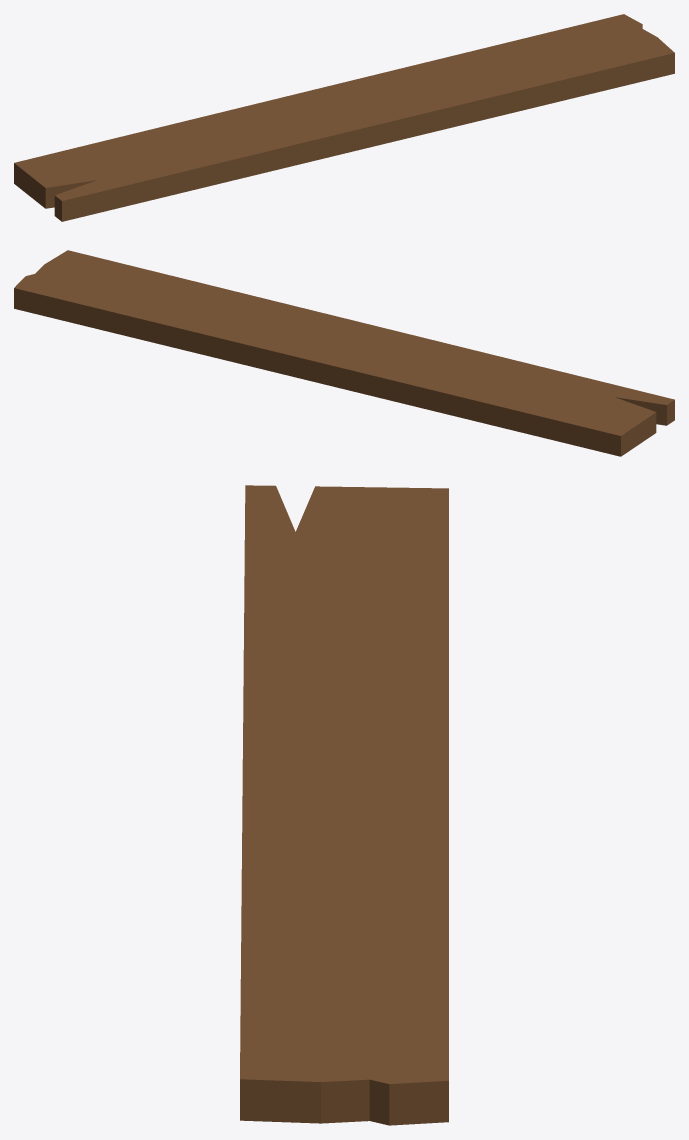
File: WoodPlank_03.glb
3 views of the same model, one above another, from view 1: azimuth 30°, elevation 25°; view 2: azimuth 150°, elevation 25°; view 3: azimuth 270°, elevation 25° (orthographic). The views are drawn at different scales.
Visible parts, largest first — view 1: WoodPlank_03; view 2: WoodPlank_03; view 3: WoodPlank_03.
Boxes of the visible parts, x1=… form: WoodPlank_03: x1=14, y1=14, x2=674, y2=221; WoodPlank_03: x1=14, y1=250, x2=674, y2=456; WoodPlank_03: x1=240, y1=485, x2=448, y2=1125.
Bounding box in the file's own units: 1.03 × 0.0333 × 0.1524.
Materials: 1 (1 with a texture image).
